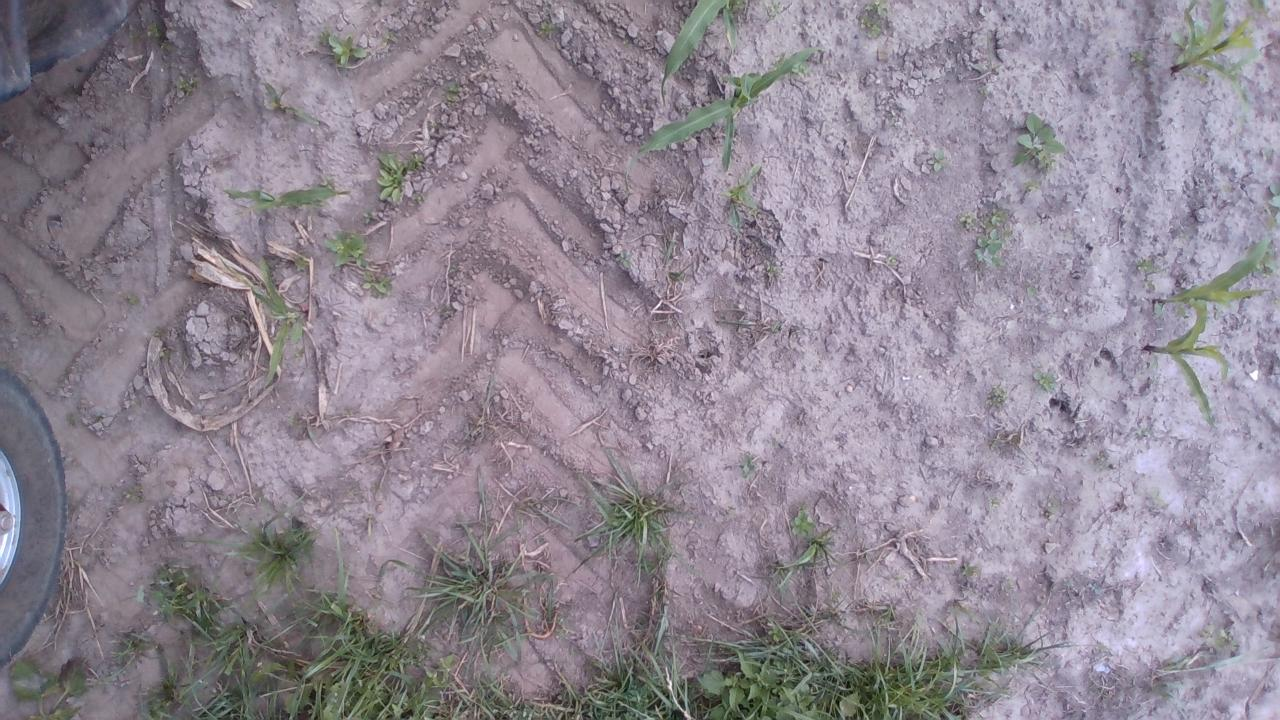Maize: (624, 44, 828, 192), (1141, 296, 1234, 439), (1166, 1, 1266, 109), (659, 0, 760, 105), (1147, 230, 1273, 313), (244, 258, 310, 404), (223, 180, 353, 222), (716, 163, 766, 232)
Weeds: (1008, 108, 1066, 173), (322, 229, 374, 276), (318, 27, 374, 66), (373, 149, 410, 204), (857, 0, 896, 42), (972, 232, 1008, 275), (789, 504, 820, 544), (360, 274, 400, 300), (1034, 364, 1064, 398), (736, 450, 759, 484), (984, 380, 1010, 410), (439, 75, 466, 102), (174, 70, 202, 96), (926, 145, 946, 180), (121, 483, 148, 508), (763, 256, 787, 282), (614, 243, 635, 272), (1021, 175, 1044, 199), (957, 207, 976, 236), (979, 212, 1009, 229), (1124, 44, 1144, 69), (146, 22, 166, 44), (538, 18, 556, 40), (155, 344, 177, 361), (122, 288, 139, 310), (408, 154, 428, 170), (790, 66, 811, 78), (150, 320, 164, 336), (416, 192, 430, 206)
